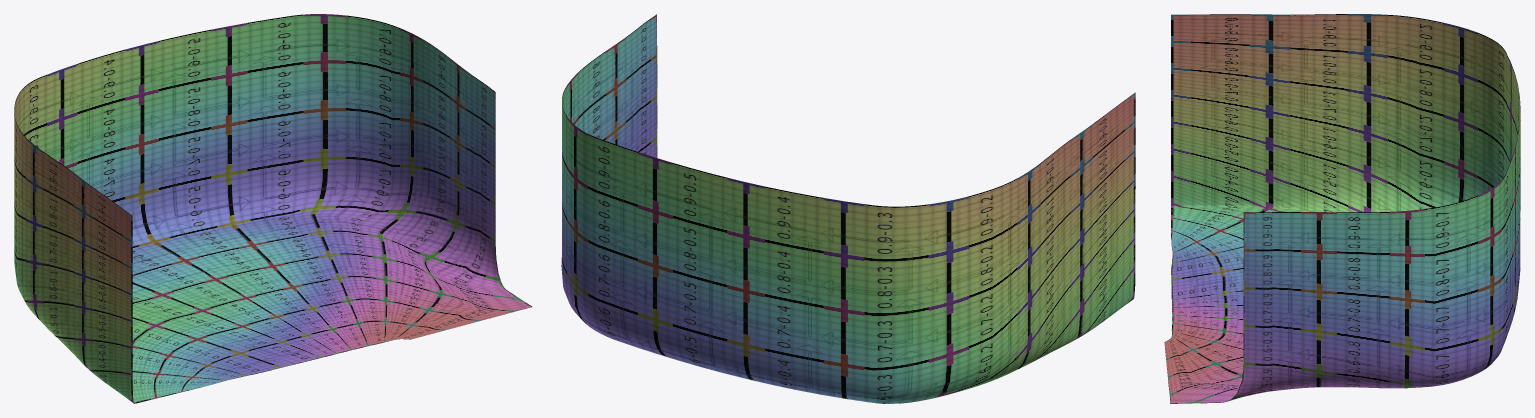
The model's file is grenscreen-wall.FBX.
The picture shows the model from 3 angles, left to right: view 1: azimuth 30°, elevation 25°; view 2: azimuth 150°, elevation 25°; view 3: azimuth 270°, elevation 25°; orthographic projection. The views are drawn at different scales.
Visible parts, largest first — view 1: Walls_2; view 2: Walls_2; view 3: Walls_2.
Part boxes in pixels (x1,y1,x2,y2): Walls_2: (14,14,532,403); Walls_2: (561,14,1135,403); Walls_2: (1164,14,1520,403).
Bounding box in the file's own units: 815 × 367 × 618.
Materials: 1 (1 with a texture image).
